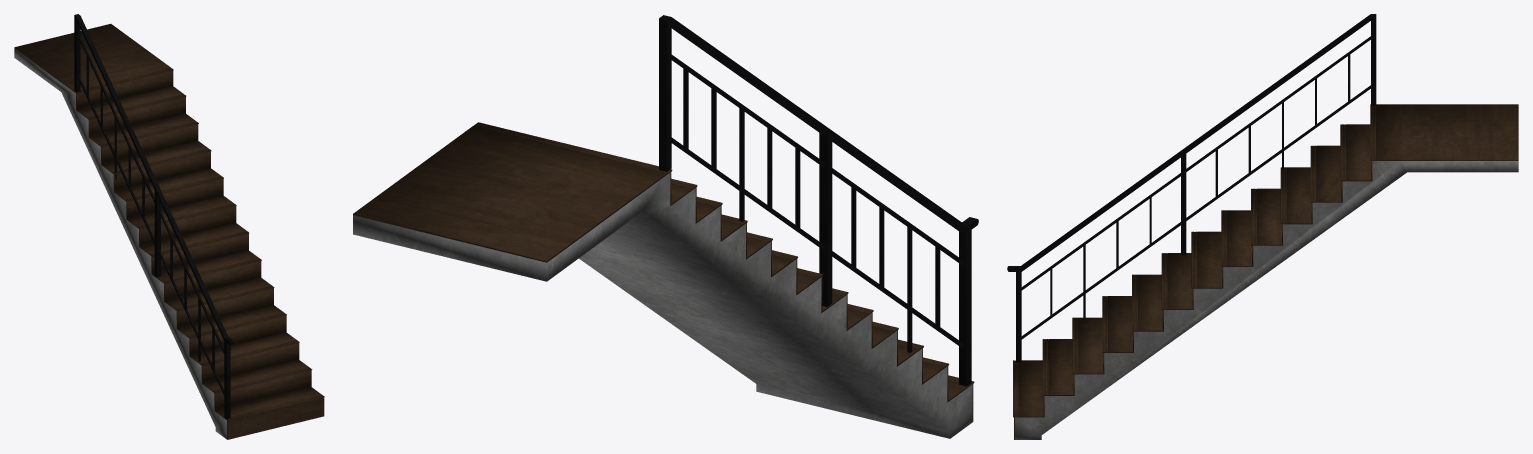
File: 3D_stairs_5.glb
3 renders of one model, left to right at view 1: azimuth 30°, elevation 25°; view 2: azimuth 150°, elevation 25°; view 3: azimuth 270°, elevation 25°, orthographic. The views are drawn at different scales.
Parts seen in each view (by area): view 1: G-Object.014, G-Object.016, G-Object.017, G-Object.015, G-Object.012; view 2: G-Object.012, G-Object.015, G-Object.017, G-Object.016, G-Object.014; view 3: G-Object.016, G-Object.012, G-Object.015, G-Object.017, G-Object.014.
Boxes of the visible parts, left/top/right/bottom form: G-Object.014: left=76, top=70, right=324, bottom=439; G-Object.016: left=76, top=86, right=324, bottom=420; G-Object.017: left=74, top=14, right=234, bottom=419; G-Object.015: left=14, top=24, right=173, bottom=93; G-Object.012: left=14, top=48, right=226, bottom=439; G-Object.012: left=353, top=172, right=972, bottom=438; G-Object.015: left=353, top=122, right=672, bottom=262; G-Object.017: left=659, top=15, right=978, bottom=386; G-Object.016: left=671, top=178, right=974, bottom=401; G-Object.014: left=670, top=172, right=973, bottom=421; G-Object.016: left=1013, top=124, right=1371, bottom=417; G-Object.012: left=1015, top=161, right=1518, bottom=439; G-Object.015: left=1370, top=104, right=1518, bottom=160; G-Object.017: left=1007, top=14, right=1376, bottom=362; G-Object.014: left=1014, top=161, right=1372, bottom=439.
Size of the model in its own units: 1.2 by 3.7 by 4.63.
Materials: 1 (1 with a texture image).
